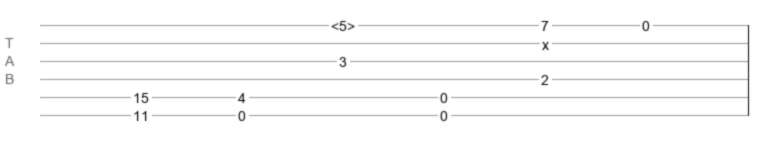0: (238, 108, 246, 118), (440, 90, 448, 100), (440, 108, 448, 118), (642, 18, 650, 28)
11: (133, 108, 149, 118)
15: (133, 90, 149, 100)
2: (541, 72, 549, 82)
3: (339, 54, 347, 64)
4: (238, 90, 246, 100)
7: (541, 18, 549, 28)
harmonic: (331, 18, 355, 28)
x: (542, 37, 549, 45)
